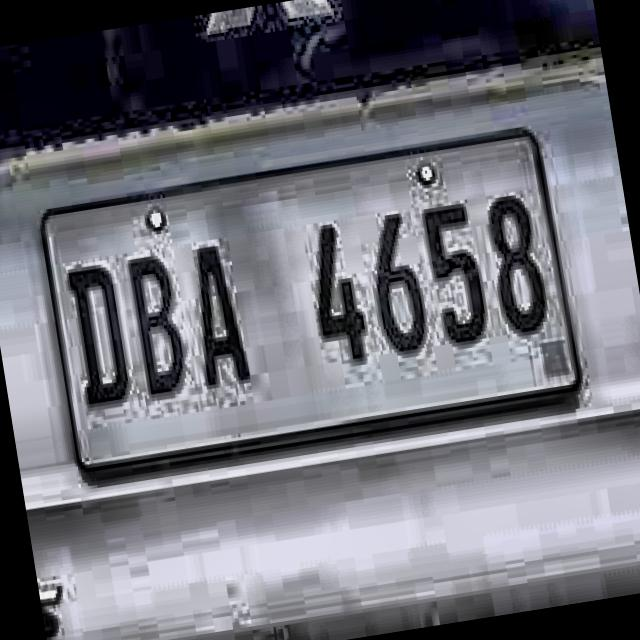license-plate: (37, 128, 586, 477)
